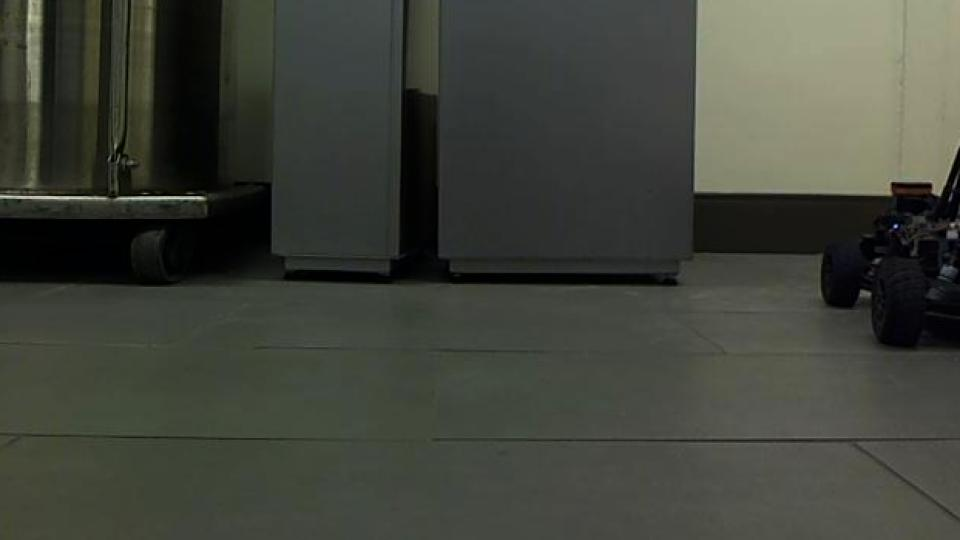car: (818, 136, 960, 350)
